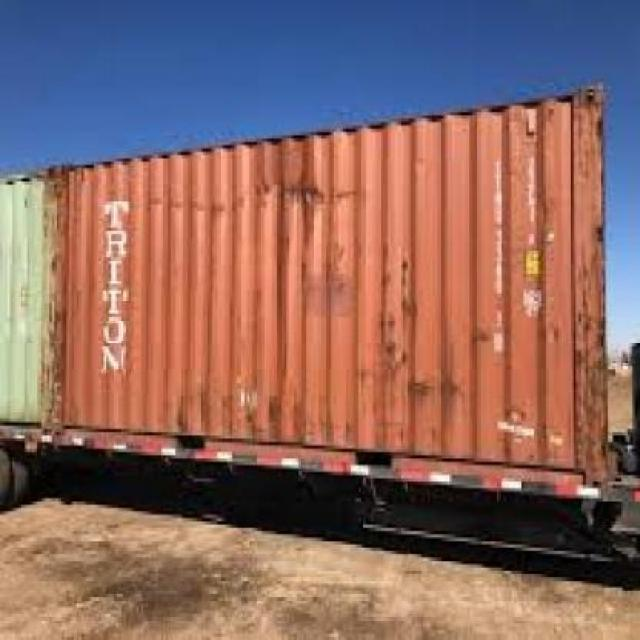Minor-Dent: (243, 180, 359, 214), (146, 196, 229, 218), (469, 317, 505, 354)
Rust: (372, 252, 463, 403), (574, 111, 608, 469), (38, 165, 71, 437)
